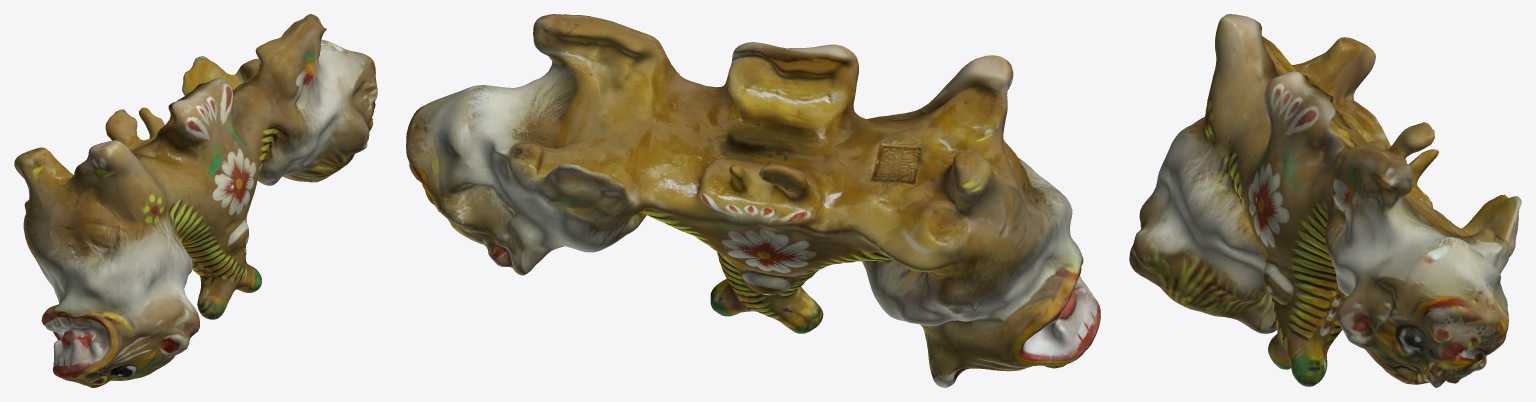
3 views of the same model, side by side, from view 1: azimuth 30°, elevation 25°; view 2: azimuth 150°, elevation 25°; view 3: azimuth 270°, elevation 25° (orthographic). The views are drawn at different scales.
Bounding box in the file's own units: 1.19 × 0.7133 × 0.7914.
1 material, 1 textured.
